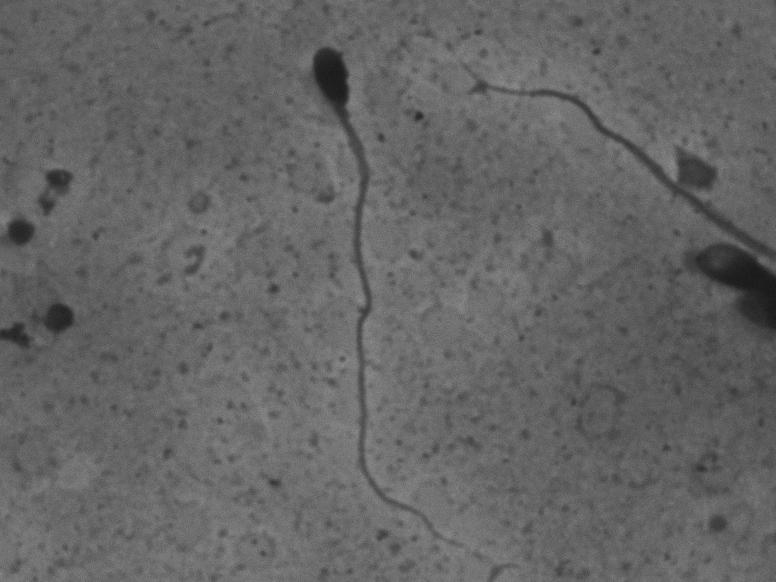Normal: (285, 30, 479, 563)
